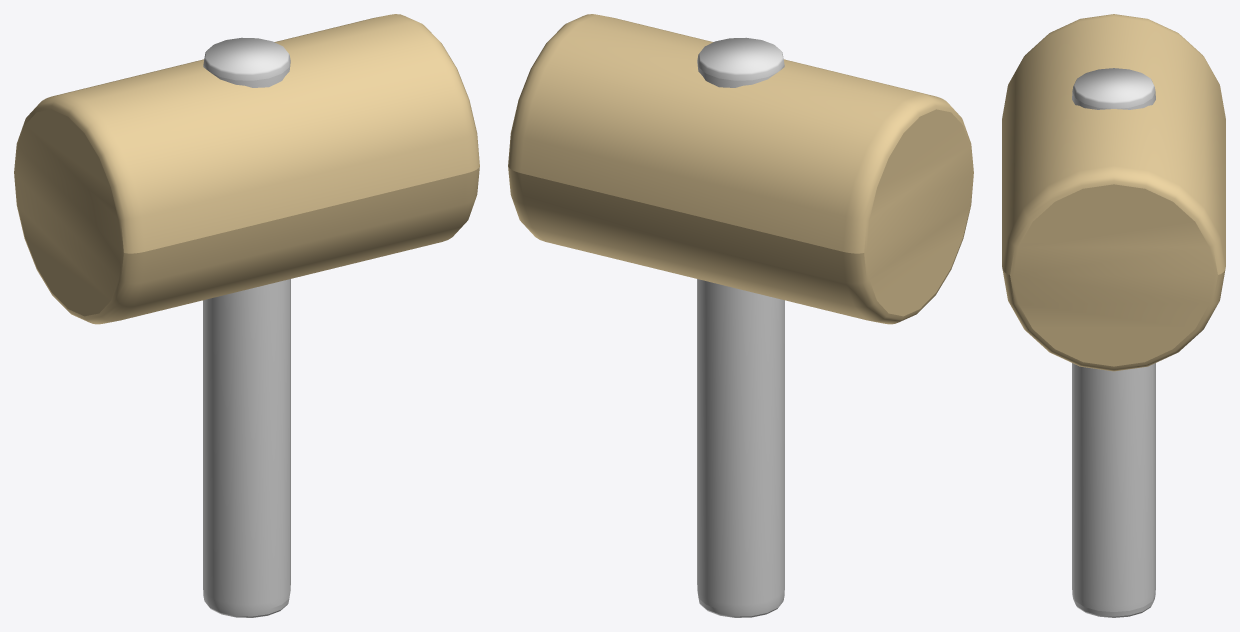
The model's file is Hammer03.glb.
3 views of the same model, side by side, from view 1: azimuth 30°, elevation 25°; view 2: azimuth 150°, elevation 25°; view 3: azimuth 270°, elevation 25° (orthographic). The views are drawn at different scales.
Parts seen in each view (by area): view 1: Hammer; view 2: Hammer; view 3: Hammer.
Part boxes in pixels (x1,y1,x2,y2): Hammer: (14,14,479,617); Hammer: (508,14,973,617); Hammer: (1002,14,1225,617).
Bounding box in the file's own units: 0.14 × 0.2038 × 0.08.
